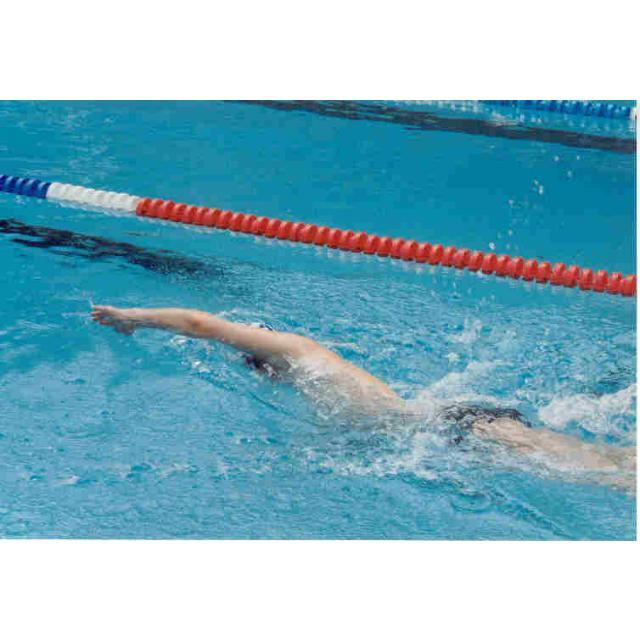human: (81, 293, 640, 504)
